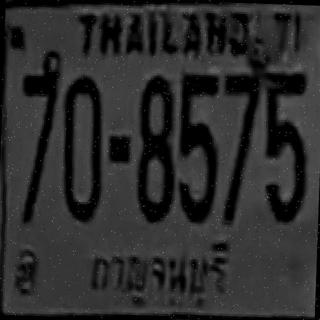N00: (60, 73, 104, 219), (262, 112, 306, 220), (137, 72, 173, 147)
N05: (263, 69, 307, 157), (178, 71, 218, 156)
N07: (221, 71, 259, 154)
N08: (135, 72, 175, 220)
P17: (83, 235, 239, 313)
